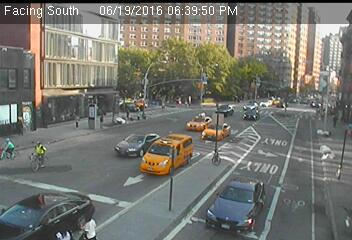neg: (23, 138, 49, 173)
pos: (81, 212, 100, 237)
